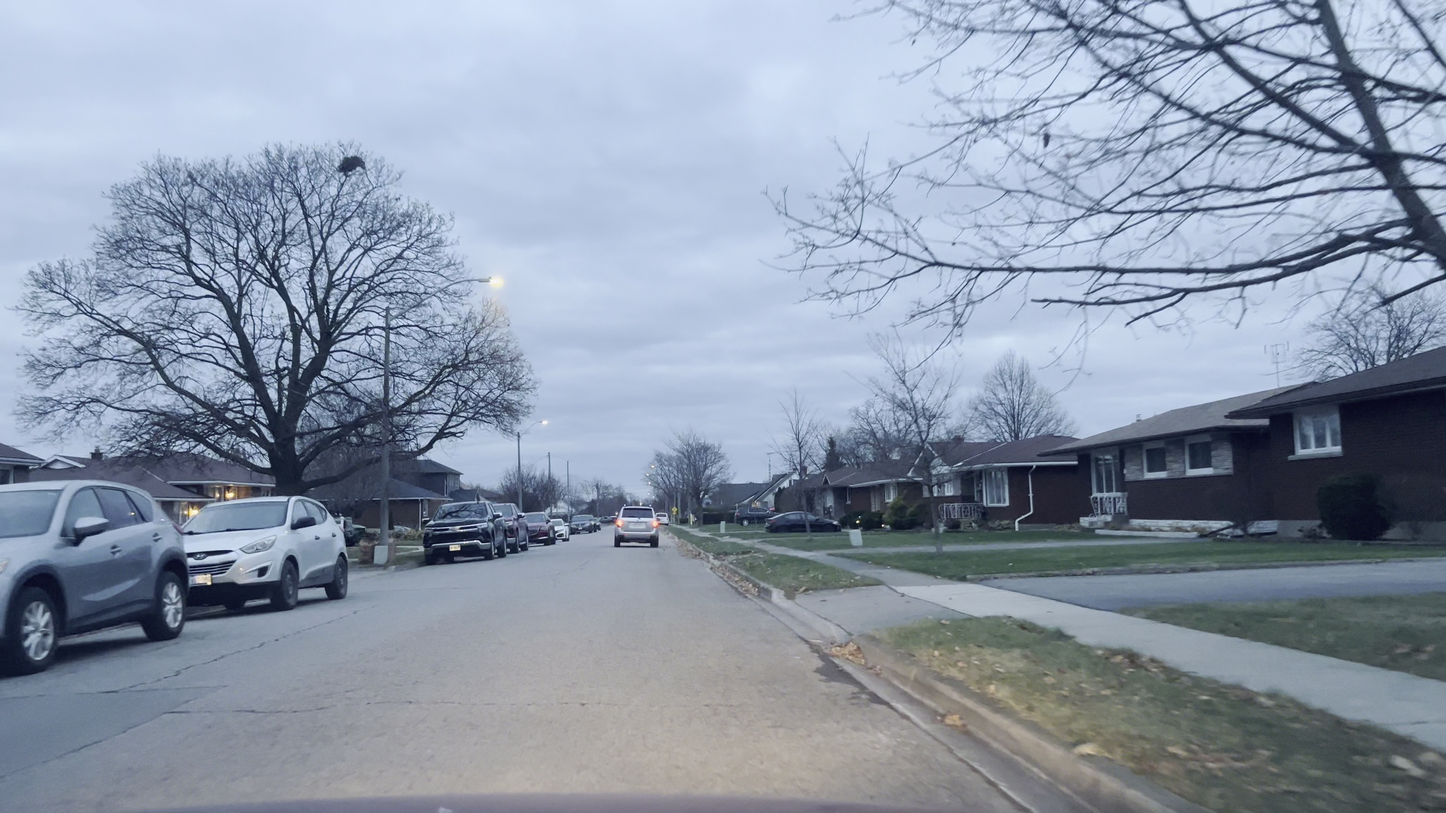cracks: (116, 663, 179, 691), (194, 644, 267, 665), (155, 704, 264, 715)
